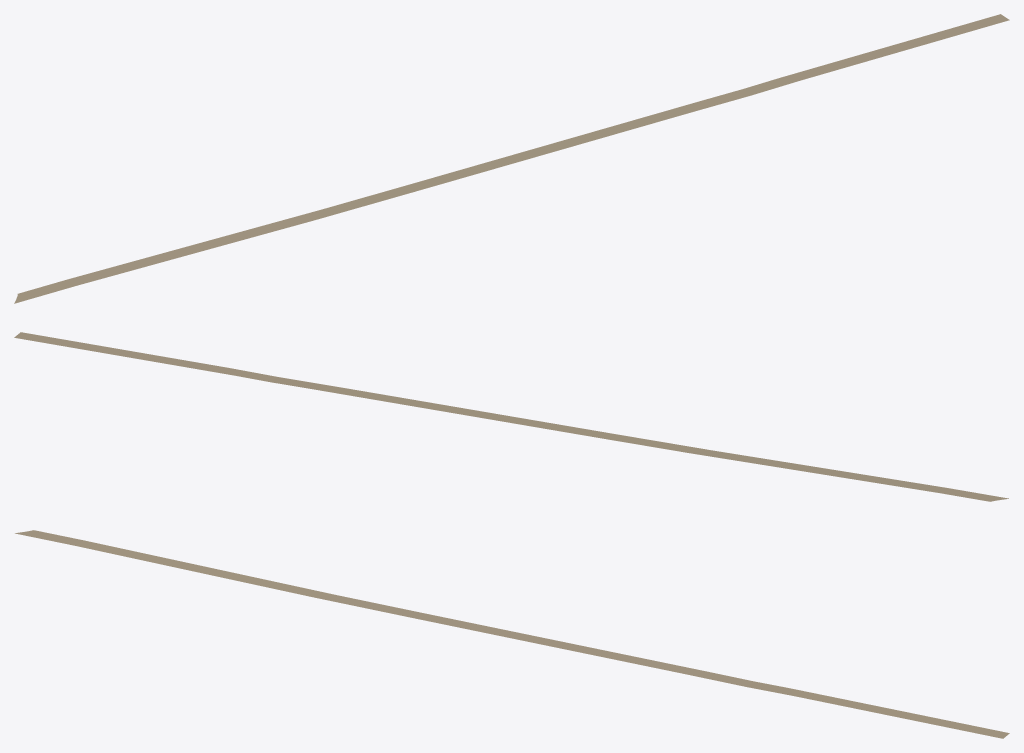
File: farm_23_12_track.glb
3 views of the same model, one above another, from view 1: azimuth 30°, elevation 25°; view 2: azimuth 150°, elevation 25°; view 3: azimuth 330°, elevation 25° (orthographic). The views are drawn at different scales.
Parts seen in each view (by area): view 1: geometry_0; view 2: geometry_0; view 3: geometry_0.
Part boxes in pixels (x1,y1,x2,y2): geometry_0: (14,14,1009,303); geometry_0: (14,332,1008,501); geometry_0: (15,530,1009,738).
Size of the model in its own units: 236 by 4.73 by 28.15.
